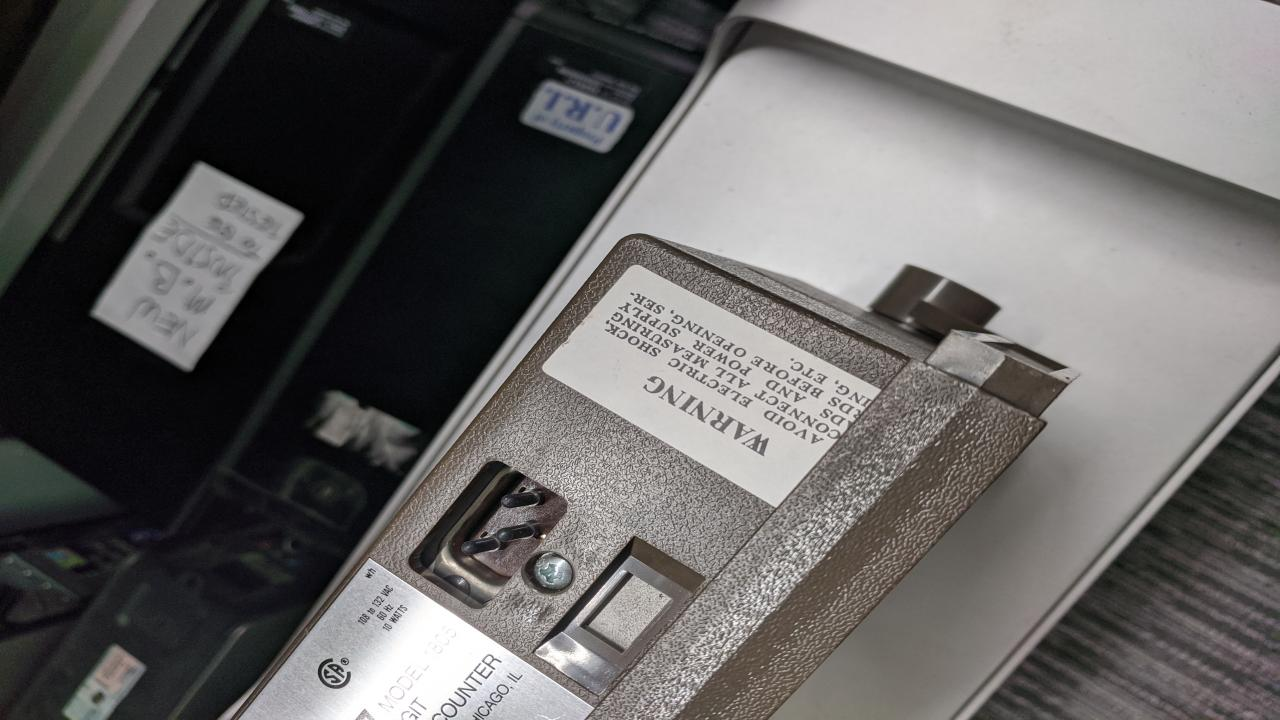CRS: (530, 552, 578, 592)
